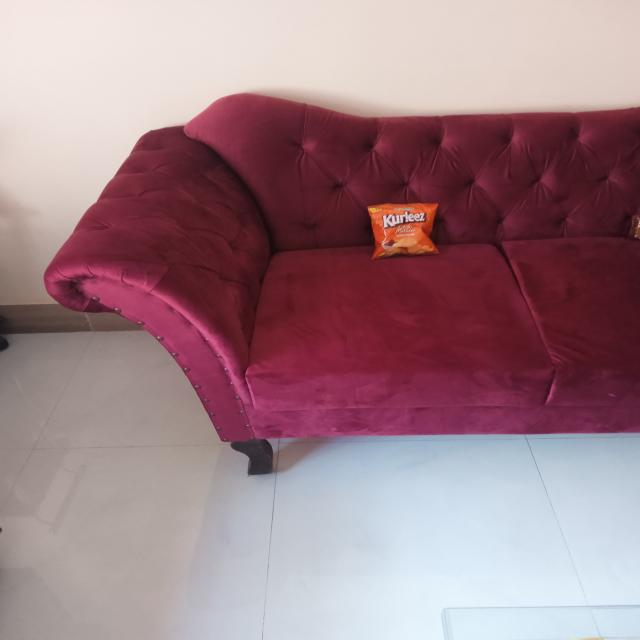Plastic: (357, 197, 445, 265)
